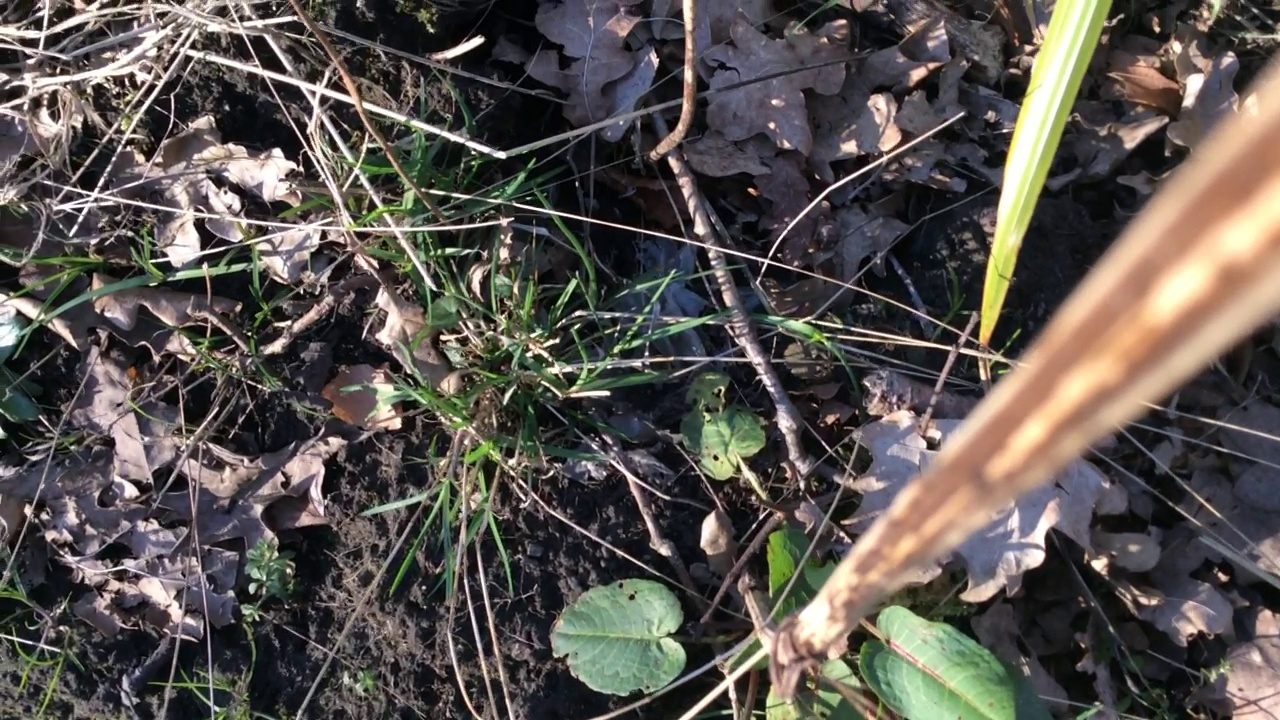rumex: (548, 371, 1051, 720)
